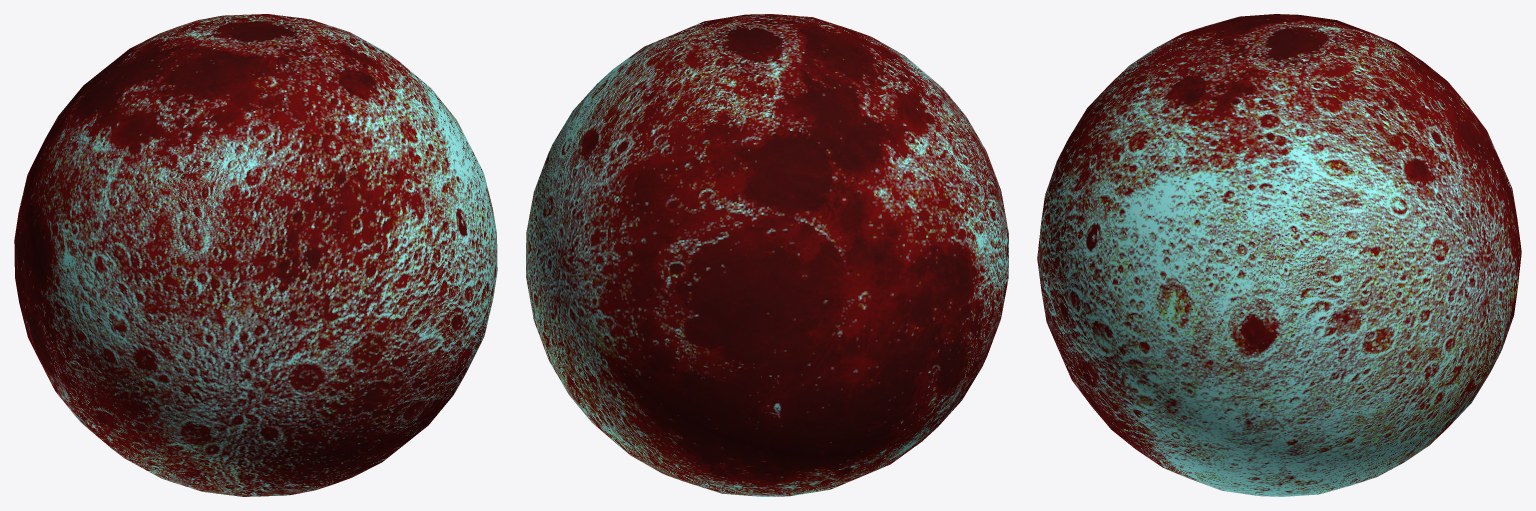
File: moon_key.obj
The picture shows the model from 3 angles, left to right: view 1: azimuth 30°, elevation 25°; view 2: azimuth 150°, elevation 25°; view 3: azimuth 270°, elevation 25°; orthographic projection.
Size of the model in its own units: 3.48 by 3.48 by 3.49.
1 material, 1 textured.
